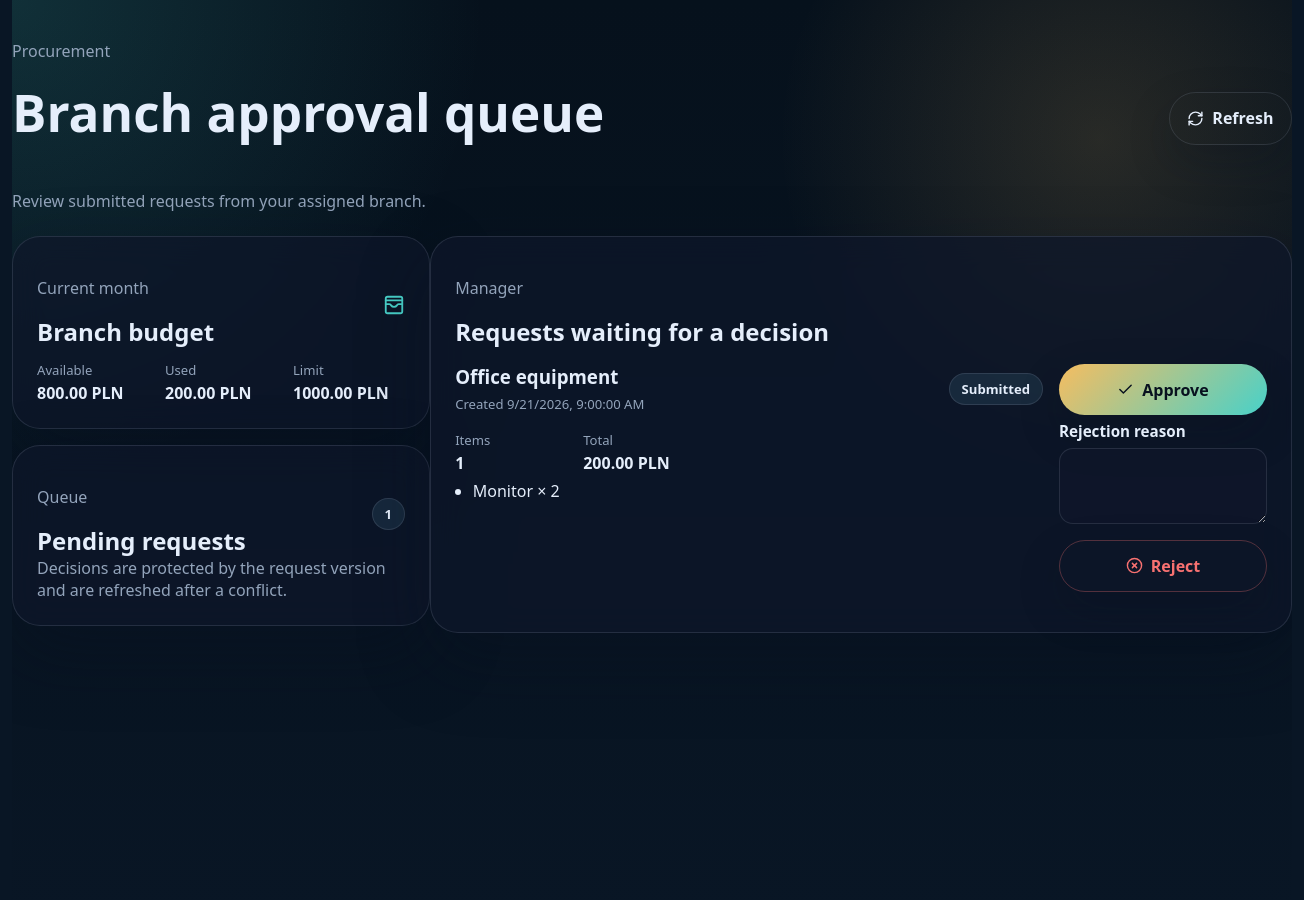
it: PurchaseRequestApprovals page › refreshes the queue after an optimistic-concurrency conflict
The image size is (1304, 900).
Click the button "Approve": (1163, 390) [1059,364,1267,415]
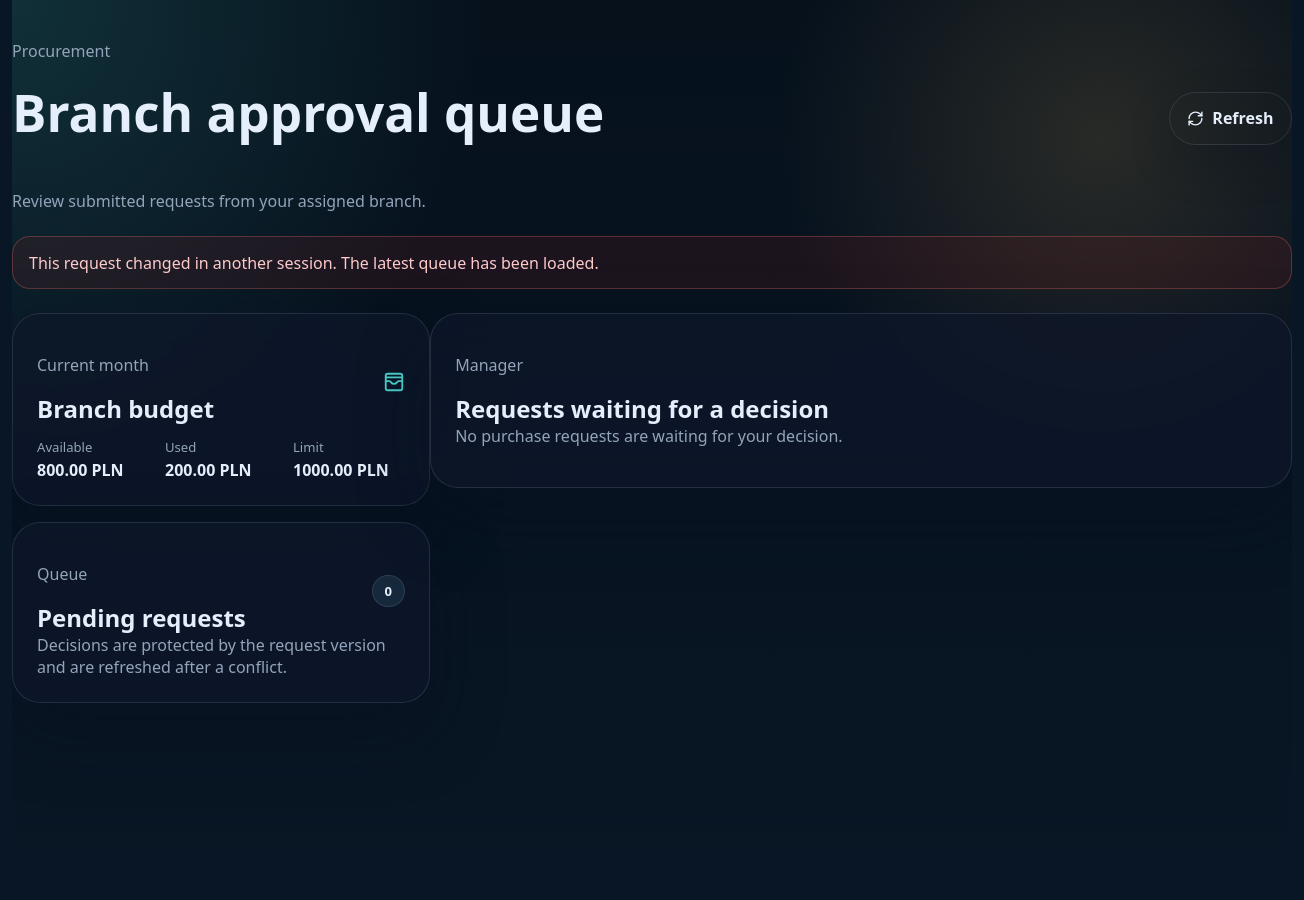
Check: the button "Refresh" is enabled, box [1169,92,1292,144]
Check: the message reads "This request changed in another session. The latest queue has been loaded.", box [29,252,599,274]
Check: the heading "Office equipment" is gone
